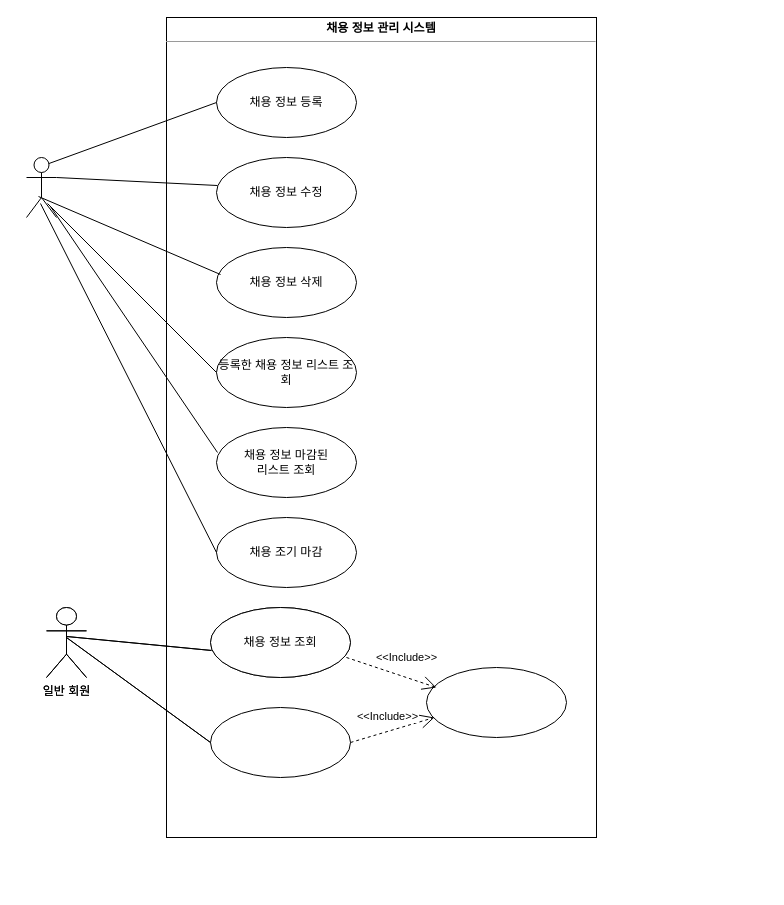
This 784x905 diagram has some shape labels left out. The shapes that lost their labels are listed below. From the top down, each one's centre as x and y in pixels, then its label:
At point 41,187: "회사 회원".
At point 496,702: "상세 채용 정보 리스트".
At point 280,742: "지원".
